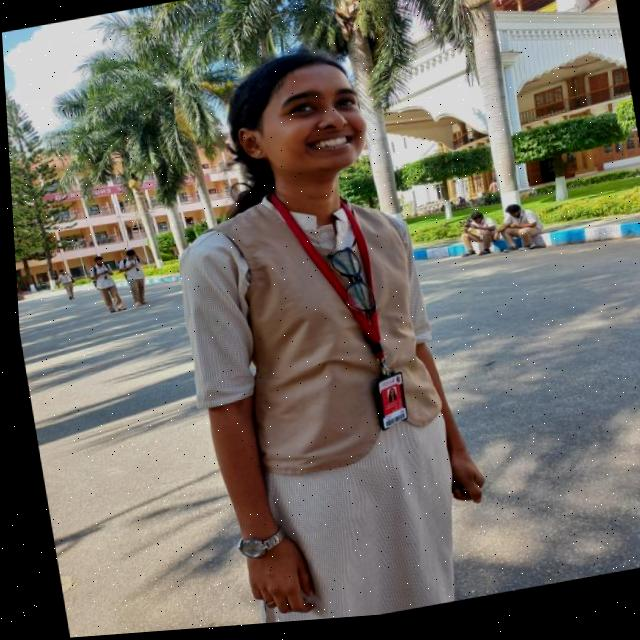id_card: (284, 183, 413, 450)
